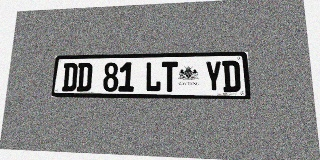1: (118, 62, 134, 92)
8: (103, 62, 119, 92)
D: (222, 60, 241, 92), (76, 63, 93, 91), (62, 63, 78, 91)
L: (145, 62, 161, 92)
T: (161, 61, 178, 92)
Y: (205, 61, 222, 92)
